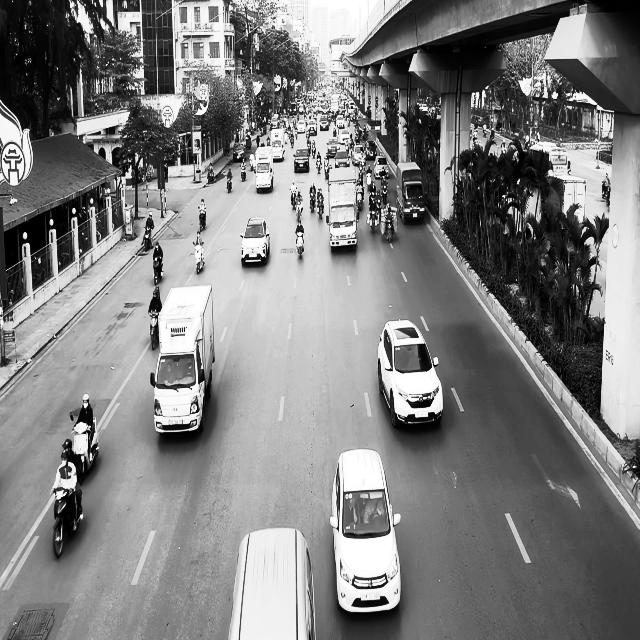car: (330, 448, 401, 615), (228, 527, 316, 639), (377, 318, 443, 428), (240, 217, 270, 266), (294, 148, 310, 172), (373, 156, 389, 178)
motorbike: (51, 484, 83, 558), (69, 409, 99, 483), (148, 309, 160, 350), (192, 240, 205, 274), (153, 256, 163, 286), (295, 230, 305, 258), (142, 226, 153, 250), (198, 206, 206, 231), (240, 166, 247, 182), (226, 176, 232, 192)
truck: (150, 284, 214, 435), (326, 177, 358, 251)
